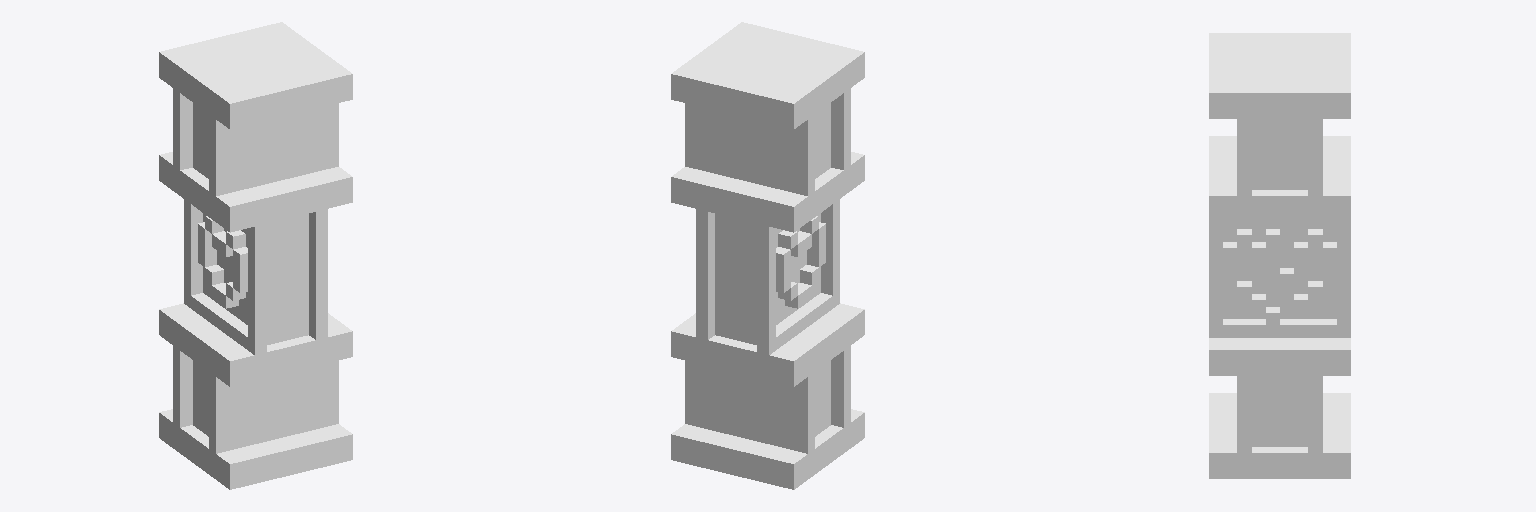
File: endgate.obj
The picture shows the model from 3 angles: view 1: azimuth 30°, elevation 25°; view 2: azimuth 150°, elevation 25°; view 3: azimuth 270°, elevation 25°; orthographic projection.
Size of the model in its own units: 10 by 30 by 10.